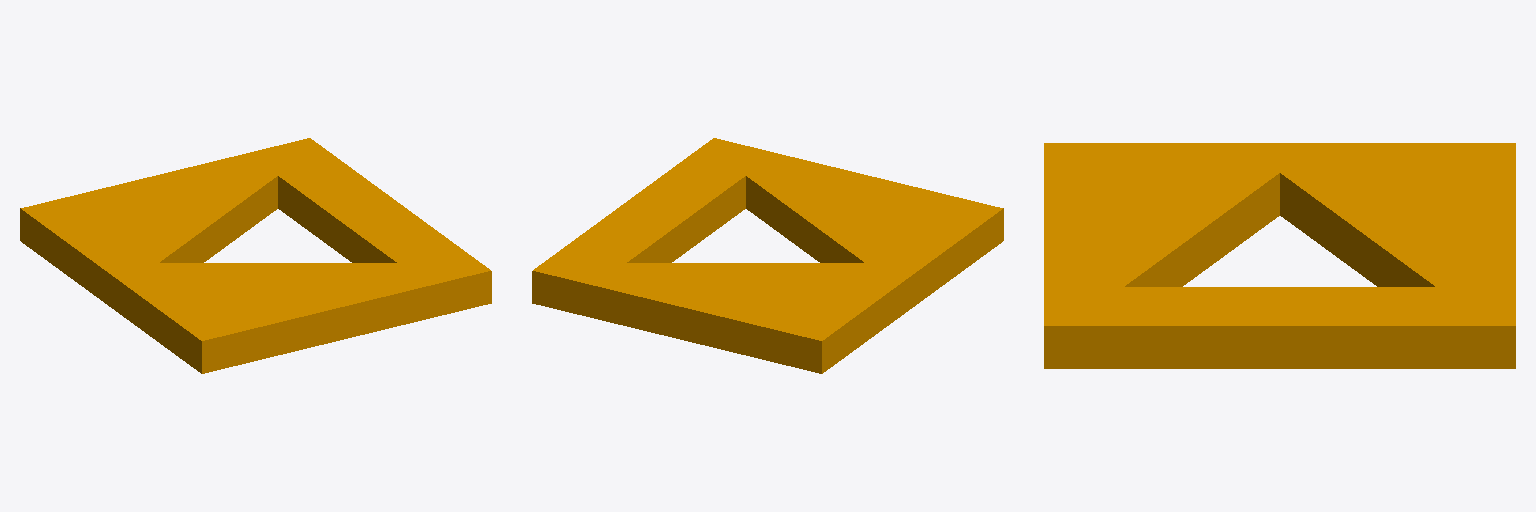
The robot description file, URDF, robot "red_triangle_hole":
<?xml version="1.0"?>
<robot name="red_triangle_hole">
    <link name="red_triangle_hole">
        <visual>
            <!--origin xyz="0 0 0.01905" rpy="0 1.57079632679 0"-->
            <geometry>
                <mesh filename="../mesh/factory_insertion/red_triangle_hole.obj" scale="0.00100 0.00100 0.00100"/>
            </geometry>
        </visual>
        <collision>
            <!--origin xyz="0 0 0.01905" rpy="0 1.57079632679 0"-->
            <geometry>
                <mesh filename="../mesh/factory_insertion/red_triangle_hole.obj" scale="0.00100 0.00100 0.00100"/>
            </geometry>
            <sdf resolution="256" />
        </collision>
    </link>
</robot>

--- What the picture shows (computed from the rendered views, not written in the file) ---
Views: 3 orthographic renders of the robot side by side, from view 1: azimuth 30°, elevation 25°; view 2: azimuth 150°, elevation 25°; view 3: azimuth 270°, elevation 25°.
Robot: red_triangle_hole — 1 links, 0 joints (none); root link red_triangle_hole; default pose: every joint at zero.
Visible links, largest first — view 1: red_triangle_hole; view 2: red_triangle_hole; view 3: red_triangle_hole.
Link boxes in pixels (<box>): red_triangle_hole: <box>20,138,491,373</box>; red_triangle_hole: <box>532,138,1003,373</box>; red_triangle_hole: <box>1044,143,1515,368</box>.
Bounding box of the posed robot: 0.0922 × 0.1 × 0.01 m (x, y, z).
1 mesh visuals loaded from 1 distinct referenced files (1 OBJ).
